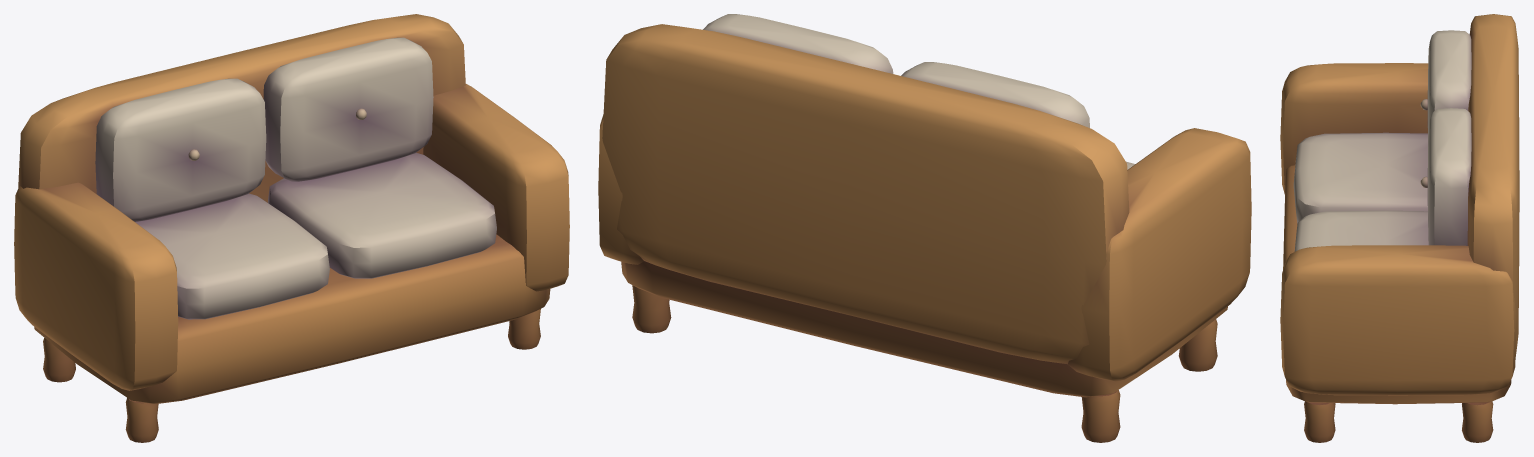
The model's file is sofa_classic.glb.
3 renders of one model, left to right at view 1: azimuth 30°, elevation 25°; view 2: azimuth 150°, elevation 25°; view 3: azimuth 270°, elevation 25°, orthographic. The views are drawn at different scales.
Parts seen in each view (by area): view 1: sofa_classic; view 2: sofa_classic; view 3: sofa_classic.
Part boxes in pixels (x1,y1,x2,y2): sofa_classic: (14, 14, 569, 442); sofa_classic: (598, 14, 1251, 442); sofa_classic: (1280, 14, 1519, 442).
Bounding box in the file's own units: 1.88 × 1.06 × 0.91.
